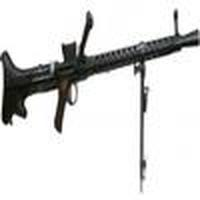gun: (2, 25, 200, 124)
